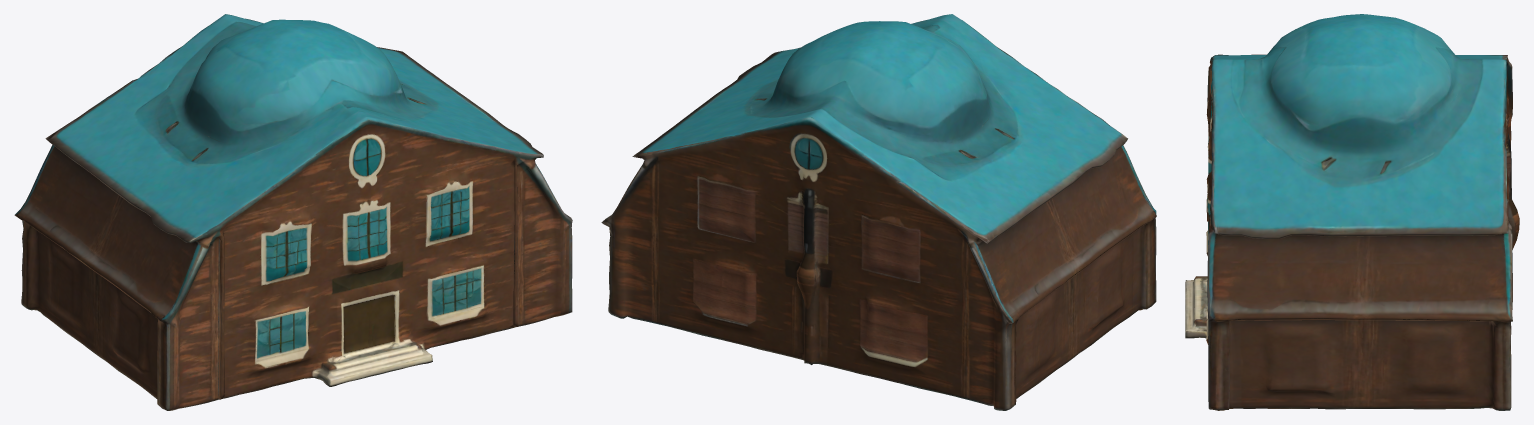
The model's file is Observatory_House_0105233812_texture.fbx.
3 views of the same model, side by side, from view 1: azimuth 30°, elevation 25°; view 2: azimuth 150°, elevation 25°; view 3: azimuth 270°, elevation 25° (orthographic). The views are drawn at different scales.
Visible parts, largest first — view 1: Mesh1_Mesh1.001; view 2: Mesh1_Mesh1.001; view 3: Mesh1_Mesh1.001.
Boxes of the visible parts, <box> form: Mesh1_Mesh1.001: <box>14,14,572,410</box>; Mesh1_Mesh1.001: <box>601,14,1156,410</box>; Mesh1_Mesh1.001: <box>1185,14,1519,410</box>.
Size of the model in its own units: 200 by 129 by 136.
1 material, 1 textured.
